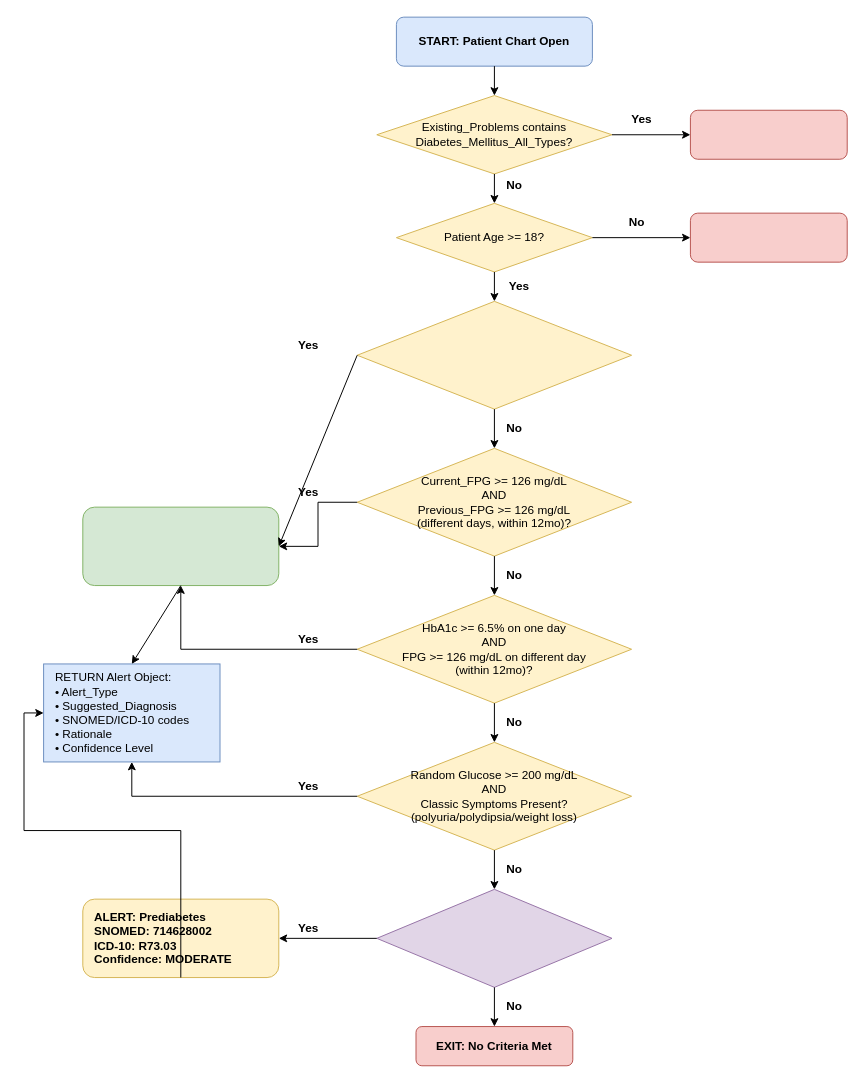
The diagram is 864 pixels wide and 1083 high, and some of its shapes have lost their labels. Here are the shapes that lost their labels. From the top down, the centre of each, then its label:
At (768,134): "EXIT: Already Diagnosed".
At (768,237): "EXIT: Pediatric (Different Criteria)".
At (494,354): "Current_HbA1c >= 6.5% AND Previous_HbA1c >= 6.5% (different days, within 12mo)?".
At (180,546): "ALERT: Type 2 Diabetes Mellitus SNOMED: 44054006 ICD-10: E11.9 Confidence: HIGH".
At (494,937): "HbA1c 5.7-6.4% (x2) OR FPG 100-125 mg/dL (x2)?".
